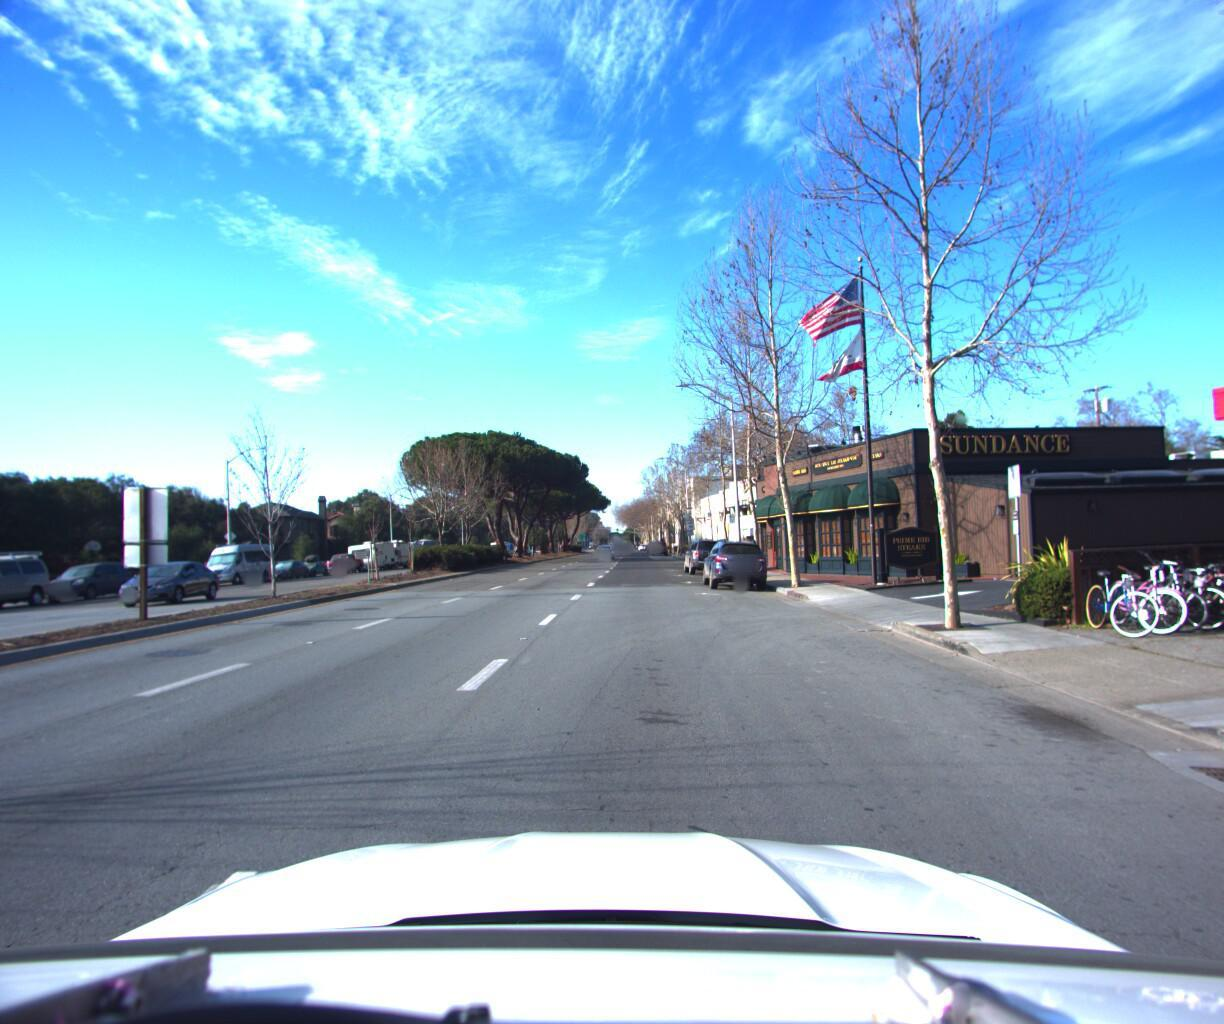bicycle: (1123, 547, 1217, 628), (1069, 557, 1164, 630), (1096, 555, 1190, 628), (1140, 545, 1224, 626), (1162, 543, 1224, 623), (1189, 541, 1224, 621), (1214, 540, 1224, 618)
car: (102, 554, 228, 610), (35, 556, 143, 605), (699, 528, 773, 592), (192, 536, 283, 586), (0, 549, 61, 621), (680, 529, 732, 573), (287, 549, 333, 575), (263, 554, 314, 578), (321, 547, 366, 573), (592, 537, 614, 554)
other_vehicle: (344, 534, 397, 568)
